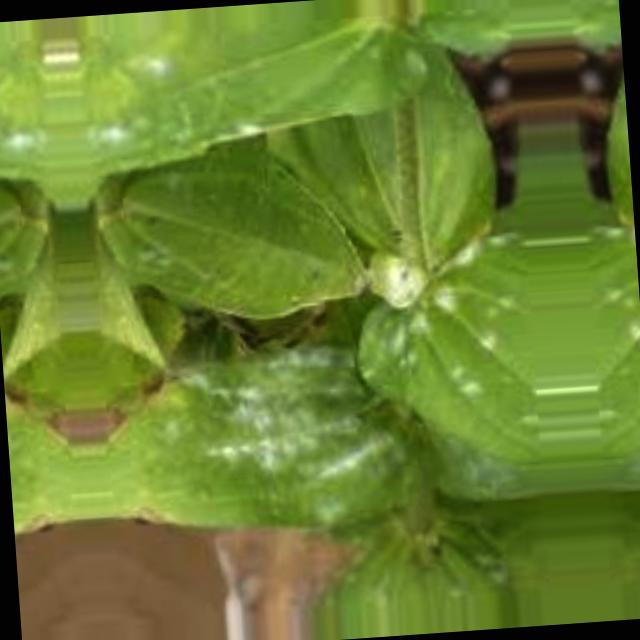Downy_mildew: (168, 353, 374, 514), (370, 227, 519, 362), (596, 218, 640, 345), (438, 358, 484, 397), (131, 44, 164, 77), (210, 114, 258, 135), (260, 316, 273, 320)
